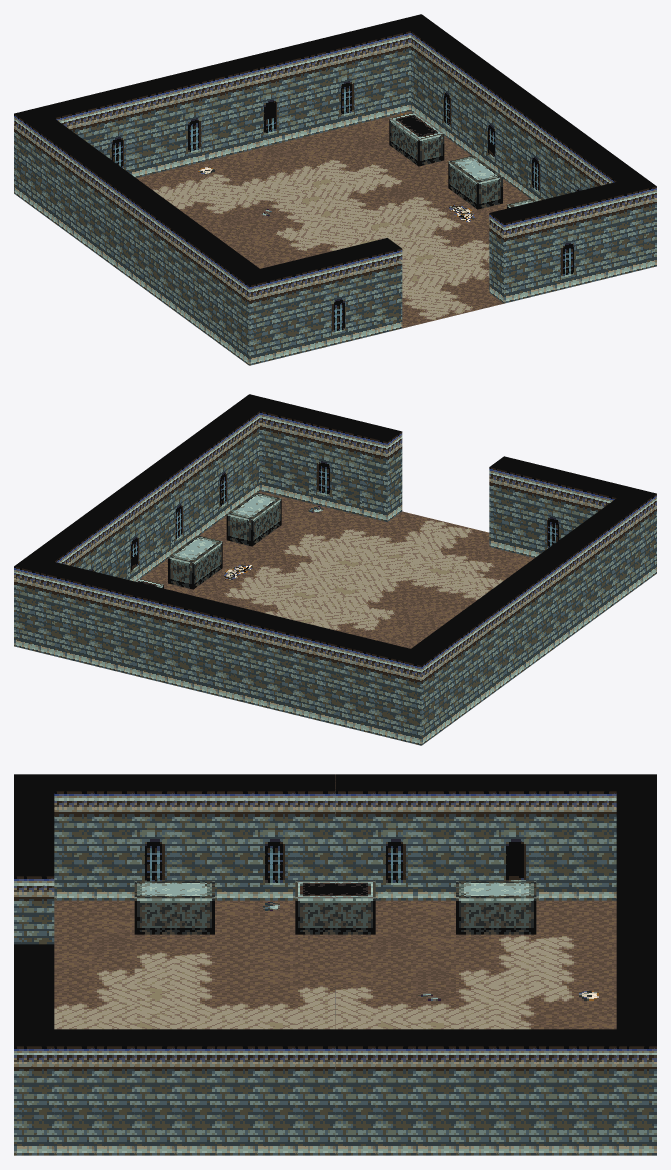
File: room-s-col.gltf
3 views of the same model, one above another, from view 1: azimuth 30°, elevation 25°; view 2: azimuth 150°, elevation 25°; view 3: azimuth 270°, elevation 25° (orthographic). The views are drawn at different scales.
Parts seen in each view (by area): view 1: room-s-col; view 2: room-s-col; view 3: room-s-col.
Boxes of the visible parts, x1,y1,x2,y2 form: room-s-col: (14,14,656,365); room-s-col: (14,394,656,745); room-s-col: (14,774,656,1155).
Bounding box in the file's own units: 16 × 3 × 16.
1 material, 1 textured.
